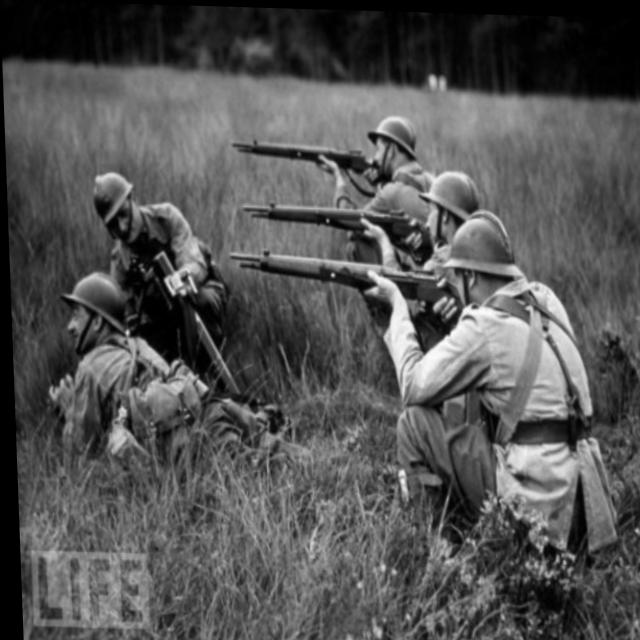other: (412, 225, 605, 526), (39, 280, 215, 473), (90, 178, 220, 301), (352, 117, 427, 207), (406, 170, 480, 251)
